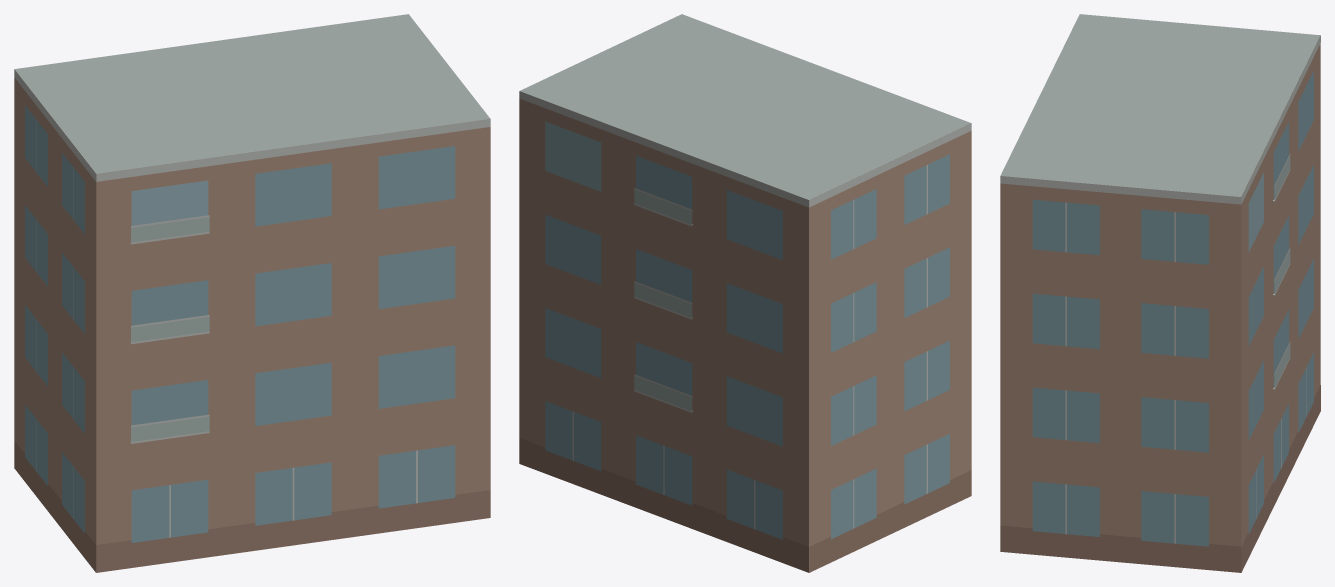
Rendered from residential-ca101642-2384-4558-8d5f-74ac611747f8.glb.
The picture shows the model from 3 angles, left to right: view 1: azimuth 30°, elevation 25°; view 2: azimuth 150°, elevation 25°; view 3: azimuth 270°, elevation 25°; orthographic projection. The views are drawn at different scales.
Parts seen in each view (by area): view 1: residential-ca101642-2384-4558-8d5f-74ac611747f8.tmp; view 2: residential-ca101642-2384-4558-8d5f-74ac611747f8.tmp; view 3: residential-ca101642-2384-4558-8d5f-74ac611747f8.tmp.
Part boxes in pixels (x1,y1,x2,y2): residential-ca101642-2384-4558-8d5f-74ac611747f8.tmp: [14, 14, 490, 572]; residential-ca101642-2384-4558-8d5f-74ac611747f8.tmp: [519, 14, 971, 572]; residential-ca101642-2384-4558-8d5f-74ac611747f8.tmp: [1000, 14, 1320, 572].
Size of the model in its own units: 12.76 by 12.2 by 9.44.
